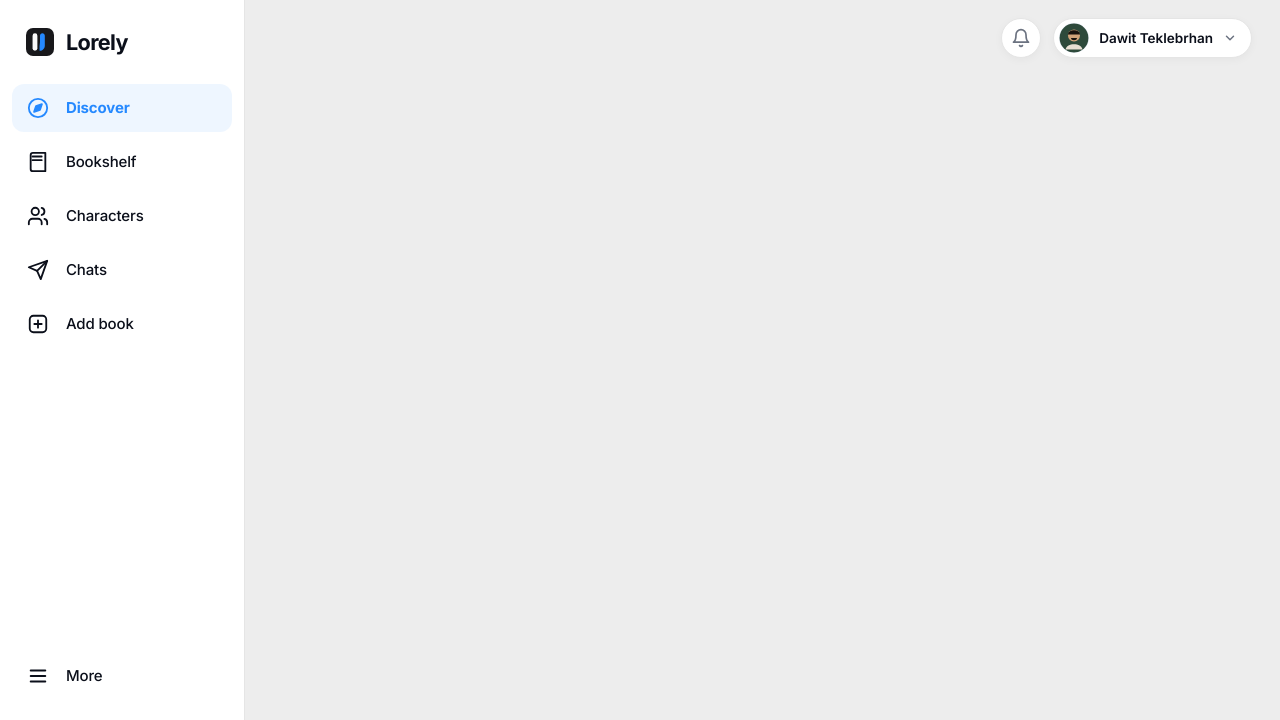
Instagram-Style Reader App Shell Navigation (Phase 1) › toggles floating More popover menu with Settings, Switch appearance, and Log out
The width and height of the screenshot is (1280, 720).
Later steps or results of the test are not shown.
Note: Open More popover
Click the button "More": (122, 676) [12, 652, 232, 700]
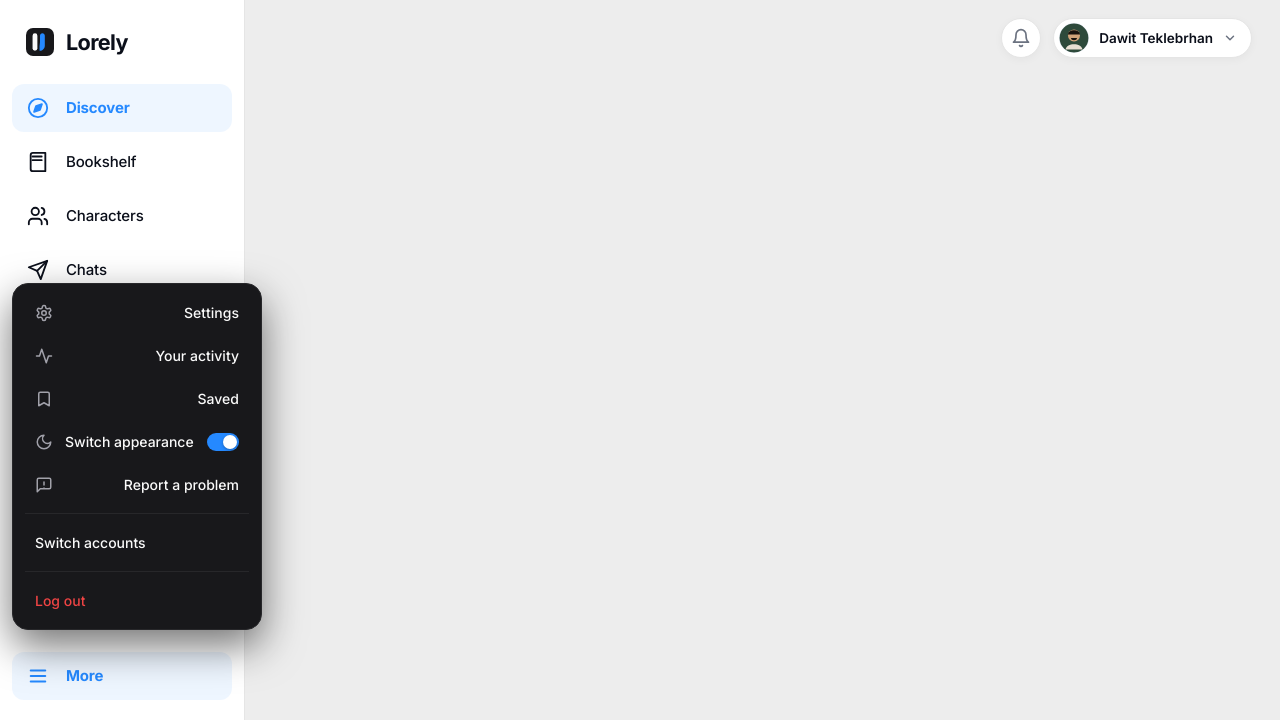
expect the menu named "more options" is shown: met, box [12, 283, 262, 630]
expect the menu item "Settings" is shown: met, box [21, 292, 253, 333]
expect the menu item "Switch appearance" is shown: met, box [21, 421, 253, 462]
